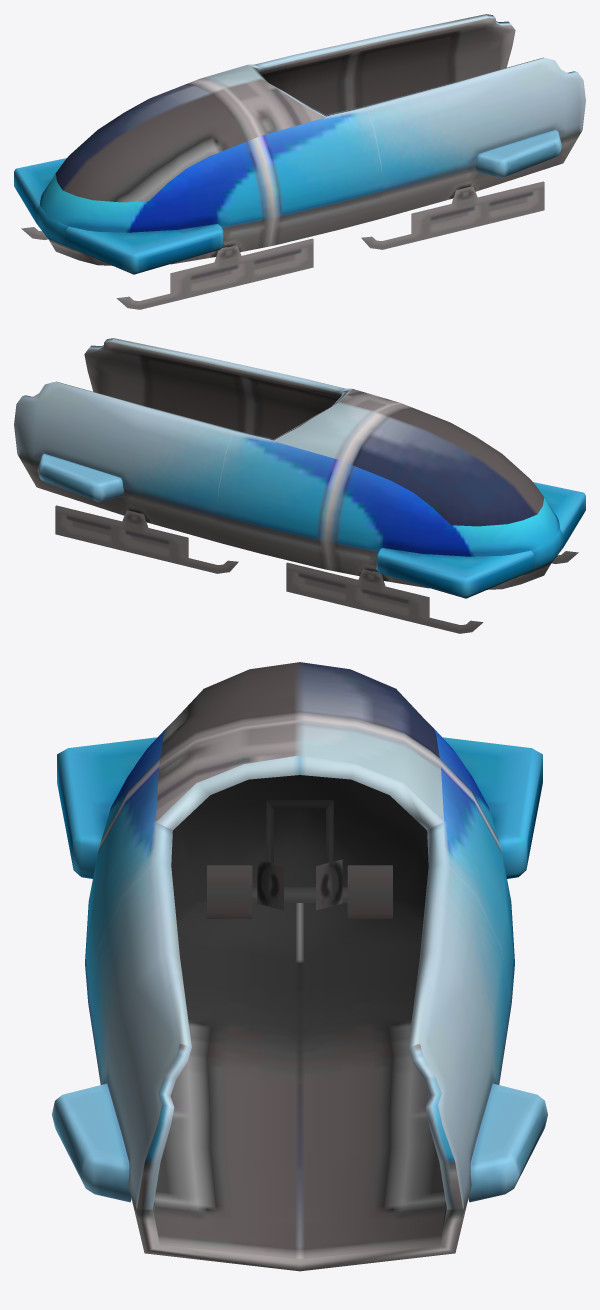
File: int_oth_bobsleigh.dae
The picture shows the model from 3 angles, top to bottom: view 1: azimuth 30°, elevation 25°; view 2: azimuth 150°, elevation 25°; view 3: azimuth 270°, elevation 25°; orthographic projection. The views are drawn at different scales.
Parts seen in each view (by area): view 1: int_oth_bobsleigh; view 2: int_oth_bobsleigh; view 3: int_oth_bobsleigh.
Part boxes in pixels (x1,y1,x2,y2): int_oth_bobsleigh: (14,14,585,309); int_oth_bobsleigh: (14,338,585,633); int_oth_bobsleigh: (52,662,547,1271).
Bounding box in the file's own units: 61.44 × 18.14 × 26.32.
1 material, 1 textured.
